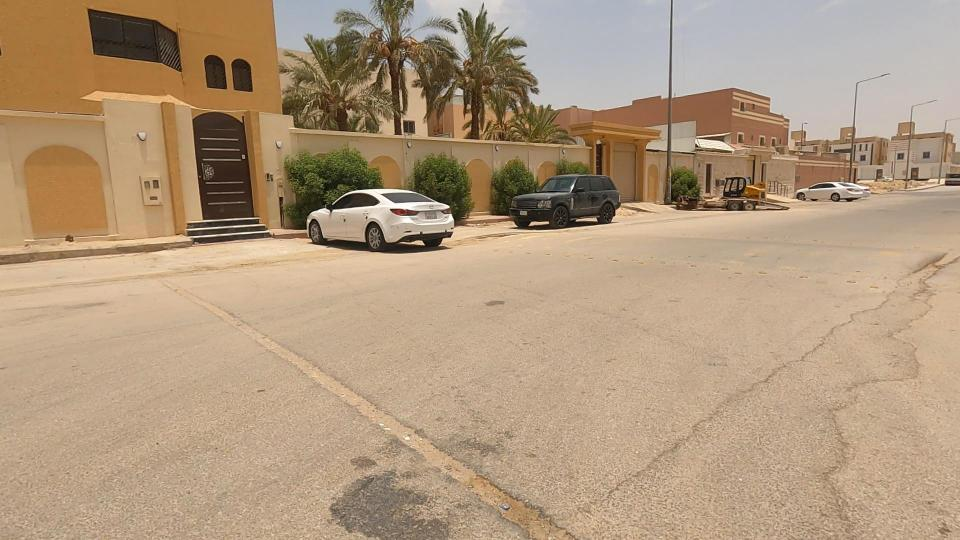POTHOLES: (359, 400, 609, 540), (253, 318, 451, 486)
